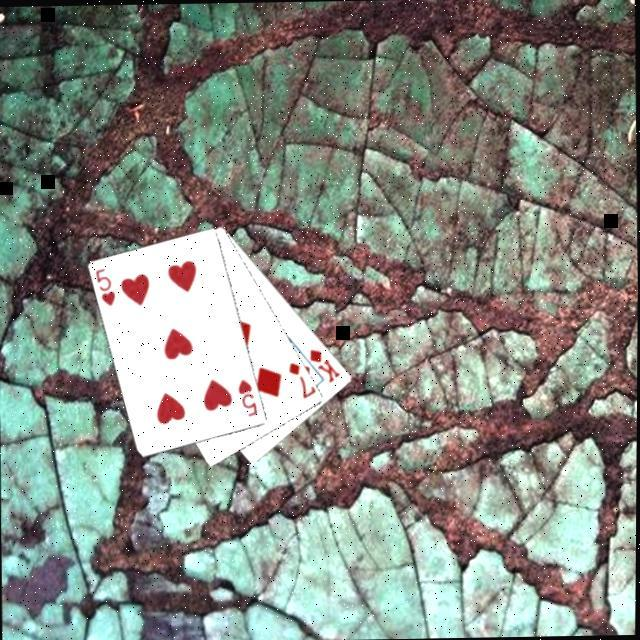5H: (94, 265, 120, 309), (236, 377, 262, 420)
7D: (286, 358, 319, 402)
KD: (308, 346, 344, 386)
